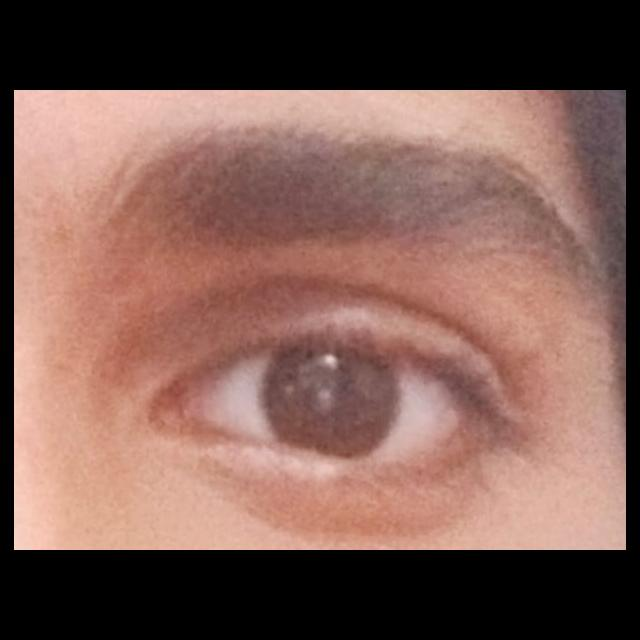eye: (191, 340, 469, 463)
iris: (261, 348, 400, 457)
